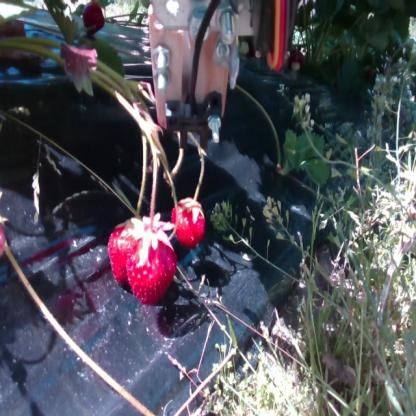ripe: (130, 236, 175, 299), (109, 224, 151, 284), (174, 201, 210, 244)
